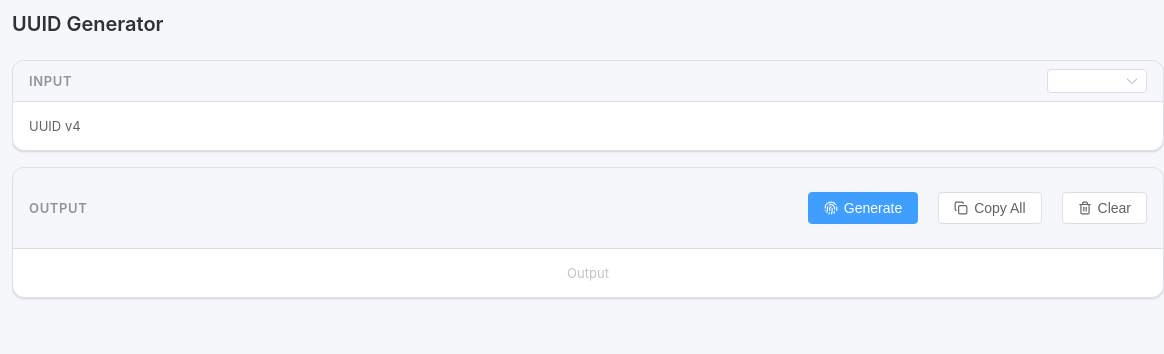
Test: UuidTool › should generate UUIDs on Generate click
What coordinates should you click on to do the following:
click the button "Generate"
I would click on:
 (863, 208)
Its box is [808,192,918,224].
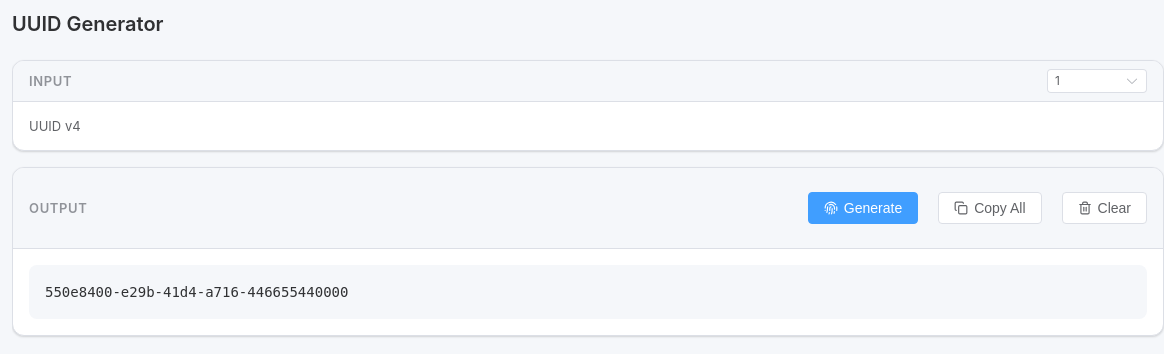
Check: the element with class "code-content" is shown, box [29,265,1147,319]
Check: the element with class "code-content" shows "550e8400", box [45,284,348,300]
